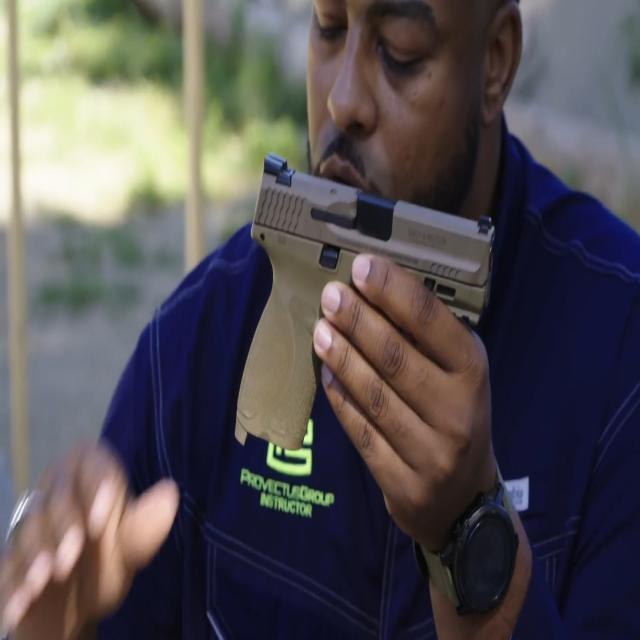handgun: (234, 115, 490, 482)
